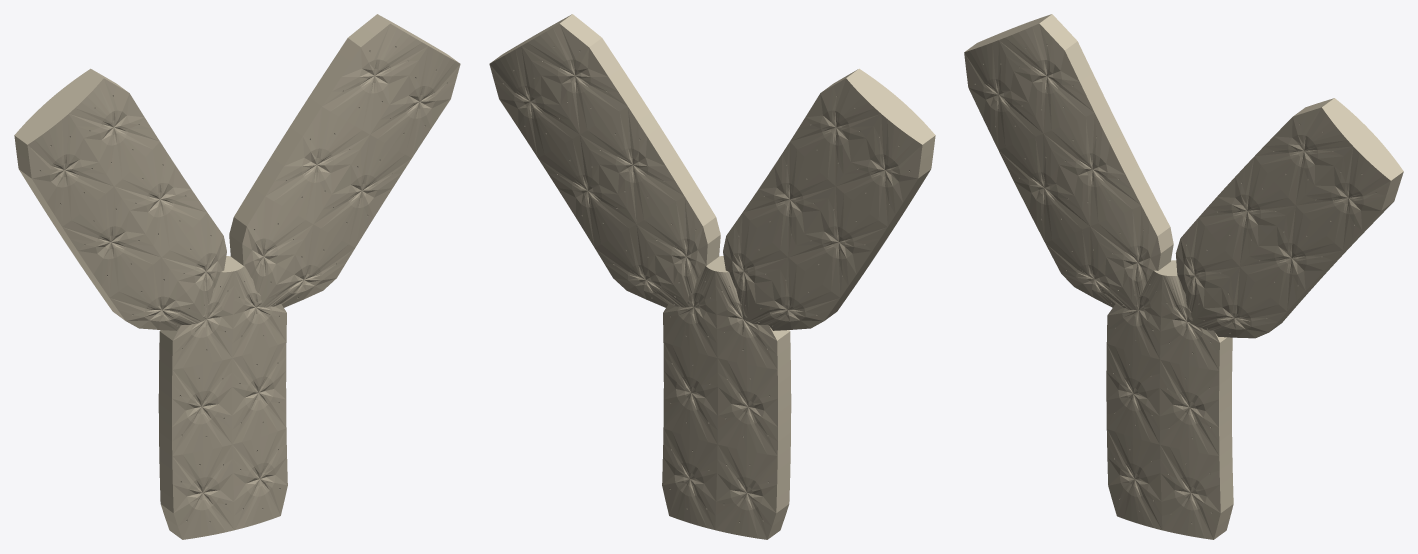
File: constellaria.glb
3 renders of one model, left to right at view 1: azimuth 30°, elevation 25°; view 2: azimuth 150°, elevation 25°; view 3: azimuth 330°, elevation 25°, orthographic.
Visible parts, largest first — view 1: constellaria-original-skeleton; view 2: constellaria-original-skeleton; view 3: constellaria-original-skeleton.
Boxes of the visible parts, <box> form: constellaria-original-skeleton: <box>14,14,460,539</box>; constellaria-original-skeleton: <box>489,14,935,539</box>; constellaria-original-skeleton: <box>964,14,1403,539</box>.
Size of the model in its own units: 0.0455 by 0.0483 by 0.0035.
